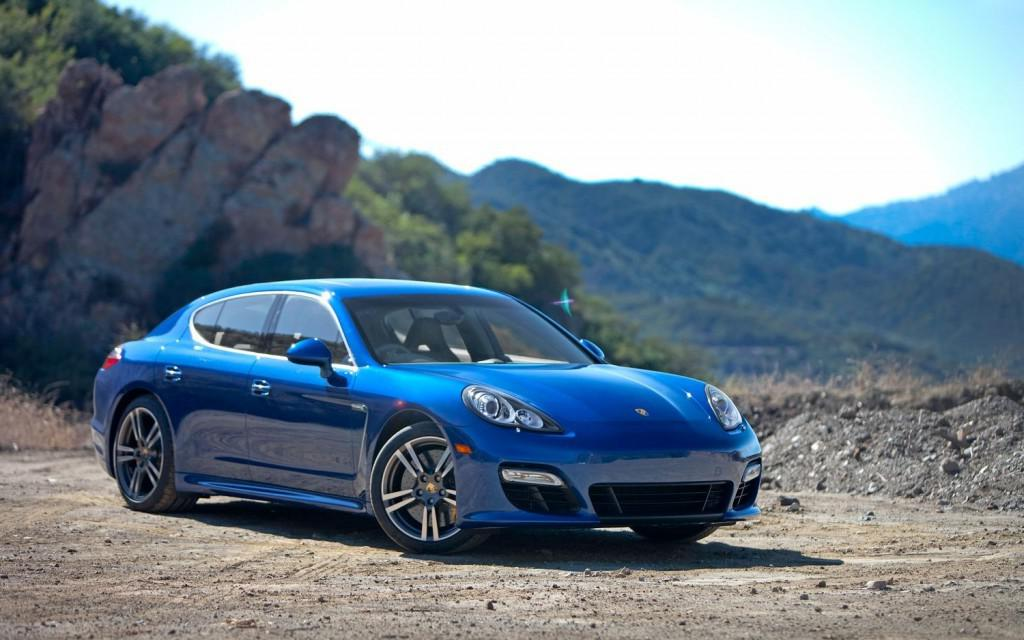Car: (61, 229, 800, 577)
